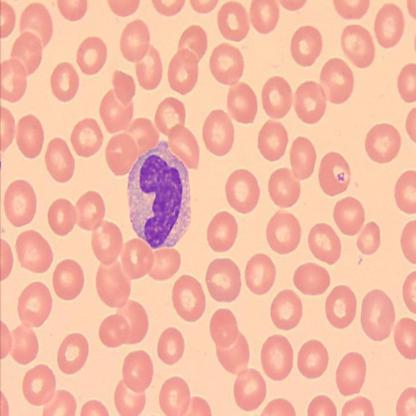Monocyte: (125, 137, 193, 249)
